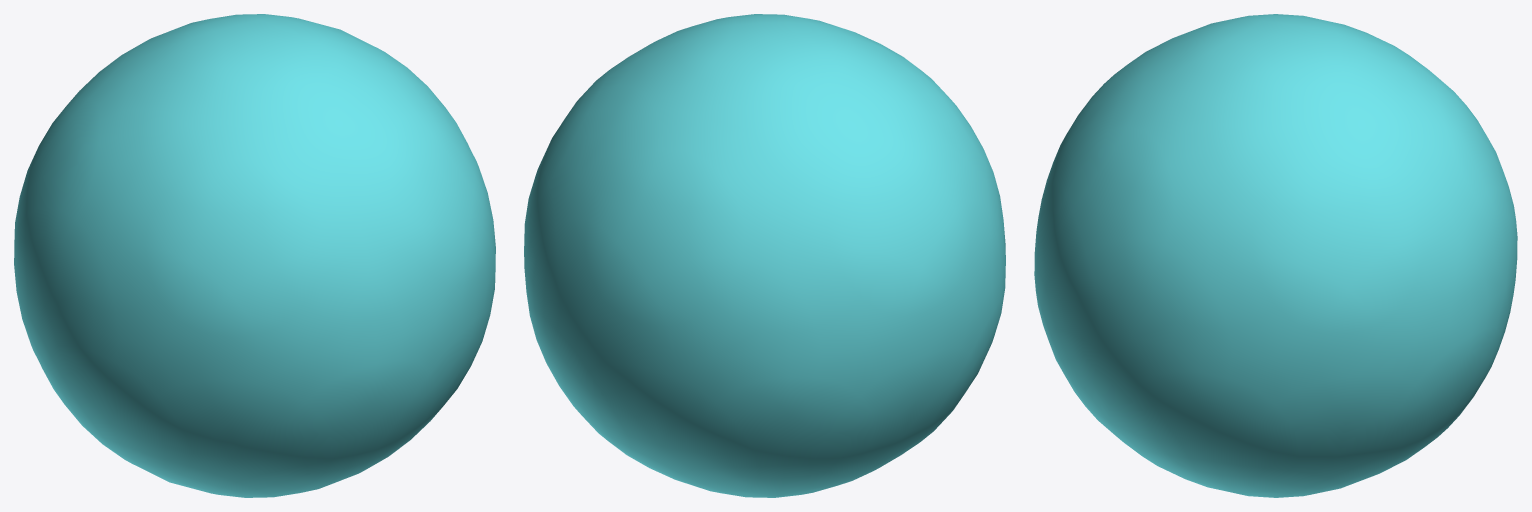
File: ball2.glb
The picture shows the model from 3 angles, left to right: view 1: azimuth 30°, elevation 25°; view 2: azimuth 150°, elevation 25°; view 3: azimuth 270°, elevation 25°; orthographic projection.
Parts seen in each view (by area): view 1: Icosphere; view 2: Icosphere; view 3: Icosphere.
Part boxes in pixels (<box>): Icosphere: <box>14,14,495,497</box>; Icosphere: <box>524,14,1005,497</box>; Icosphere: <box>1034,14,1517,497</box>.
Size of the model in its own units: 1.85 by 1.86 by 1.85.
